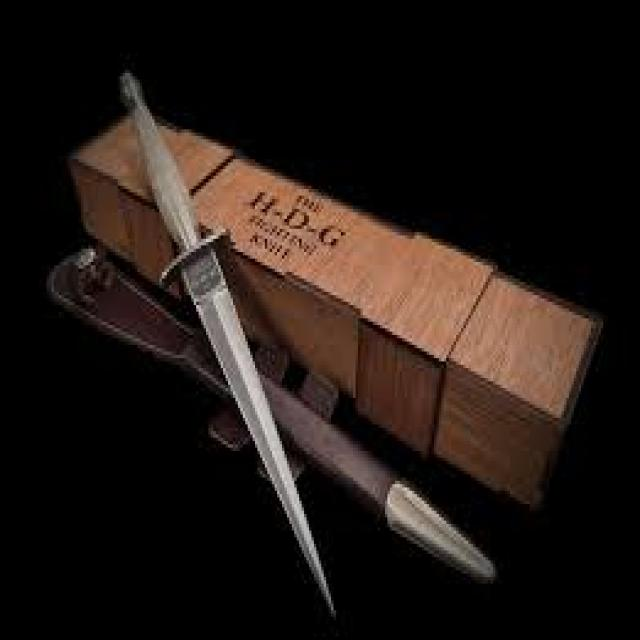Gun: (106, 60, 364, 612)
